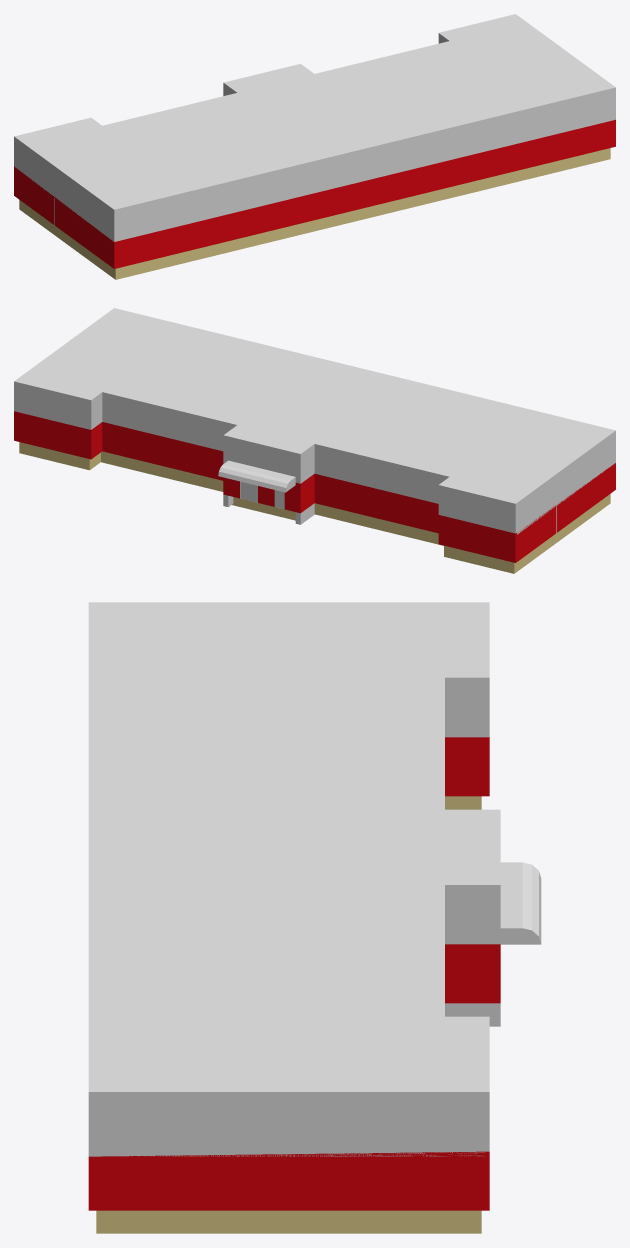
File: mIN.fbx
3 views of the same model, one above another, from view 1: azimuth 30°, elevation 25°; view 2: azimuth 150°, elevation 25°; view 3: azimuth 270°, elevation 25° (orthographic). The views are drawn at different scales.
Visible parts, largest first — view 1: 2.001, 2, Wall.016, Wall.055, podloga2; view 2: 2.001, 2, Wall.016, Wall.055, Cube.031; view 3: 2.001, 2, Wall.016, Wall.055, Cube.031, podloga2.
Boxes of the visible parts, x1,y1,x2,y2 form: 2.001: (17, 15, 612, 208); 2: (14, 14, 615, 239); Wall.016: (14, 119, 615, 268); Wall.055: (19, 148, 610, 279); podloga2: (15, 117, 615, 241); 2.001: (17, 309, 612, 502); 2: (14, 308, 615, 533); Wall.016: (14, 411, 615, 562); Wall.055: (19, 442, 610, 573); Cube.031: (218, 460, 295, 492); 2.001: (93, 604, 485, 1090); 2: (88, 602, 500, 1151); Wall.016: (88, 737, 500, 1210); Wall.055: (96, 796, 481, 1233); Cube.031: (500, 862, 541, 944); podloga2: (88, 1151, 484, 1156).
Bounding box in the file's own units: 5201 × 717 × 2032.
